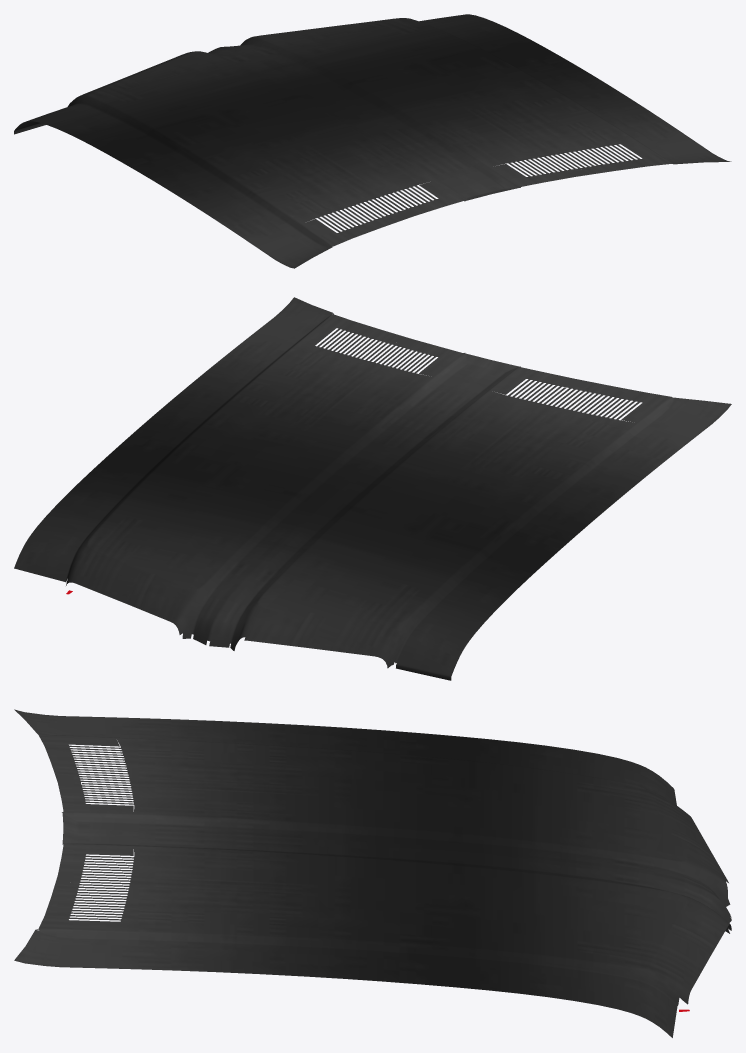
File: CarroCofre.fbx
3 views of the same model, one above another, from view 1: azimuth 30°, elevation 25°; view 2: azimuth 150°, elevation 25°; view 3: azimuth 270°, elevation 25° (orthographic). The views are drawn at different scales.
Visible parts, largest first — view 1: Cofre; view 2: Cofre; view 3: Cofre.
Part boxes in pixels (left/top/right/bottom): Cofre: left=14, top=14, right=731, bottom=268; Cofre: left=14, top=297, right=731, bottom=680; Cofre: left=14, top=709, right=731, bottom=1037.
Bounding box in the file's own units: 115 × 19.53 × 139.
